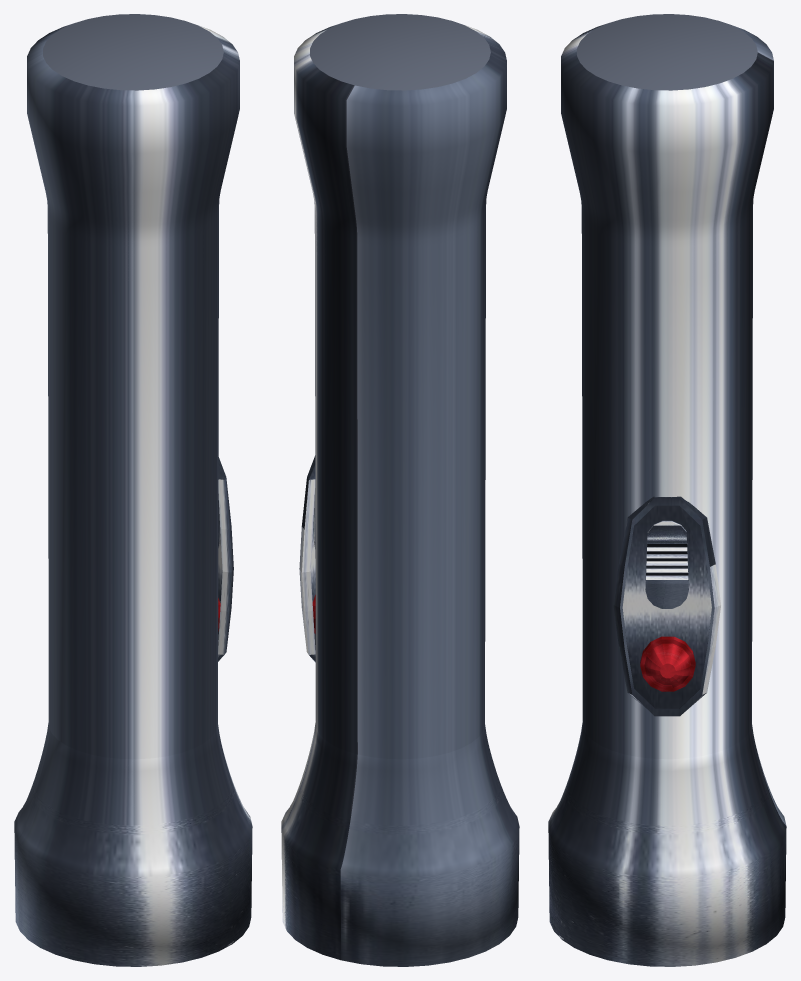
The model's file is latarka.fbx.
3 views of the same model, side by side, from view 1: azimuth 30°, elevation 25°; view 2: azimuth 150°, elevation 25°; view 3: azimuth 270°, elevation 25° (orthographic).
Visible parts, largest first — view 1: Cylinder, Cylinder.001; view 2: Cylinder, Cylinder.001; view 3: Cylinder, Cylinder.001, Cylinder.003, Cylinder.002.
Part boxes in pixels (x1,y1,x2,y2): Cylinder: [14, 14, 252, 966]; Cylinder.001: [218, 457, 233, 661]; Cylinder: [281, 14, 519, 966]; Cylinder.001: [299, 455, 315, 662]; Cylinder: [548, 14, 786, 966]; Cylinder.001: [613, 496, 720, 716]; Cylinder.003: [645, 520, 688, 608]; Cylinder.002: [640, 636, 695, 691].
Bounding box in the file's own units: 1.77 × 7.08 × 1.77.
